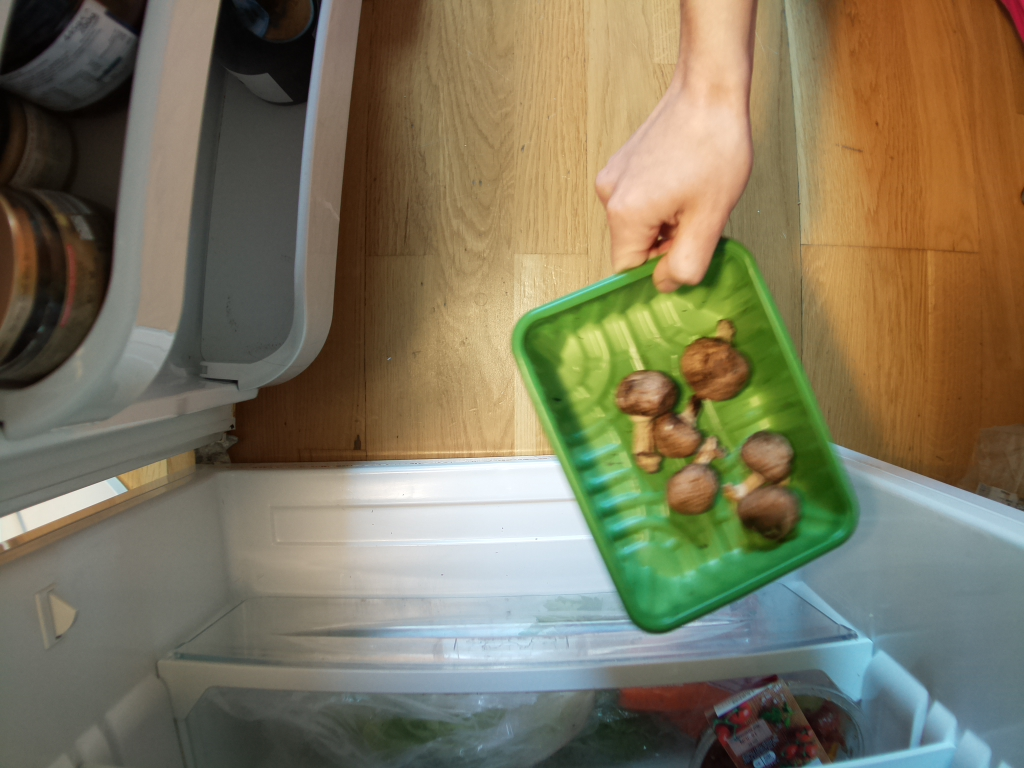mushrooms-bad: (513, 237, 857, 635)
